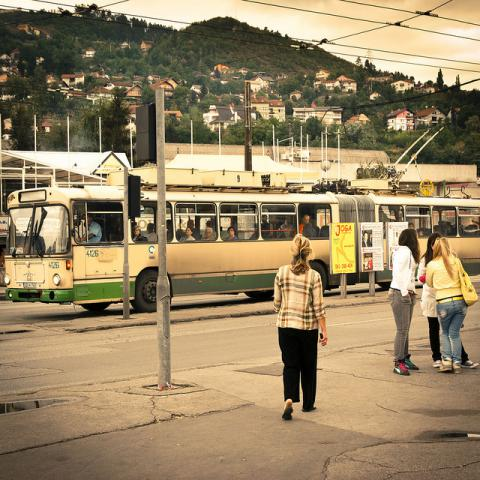bus: (3, 186, 479, 314)
